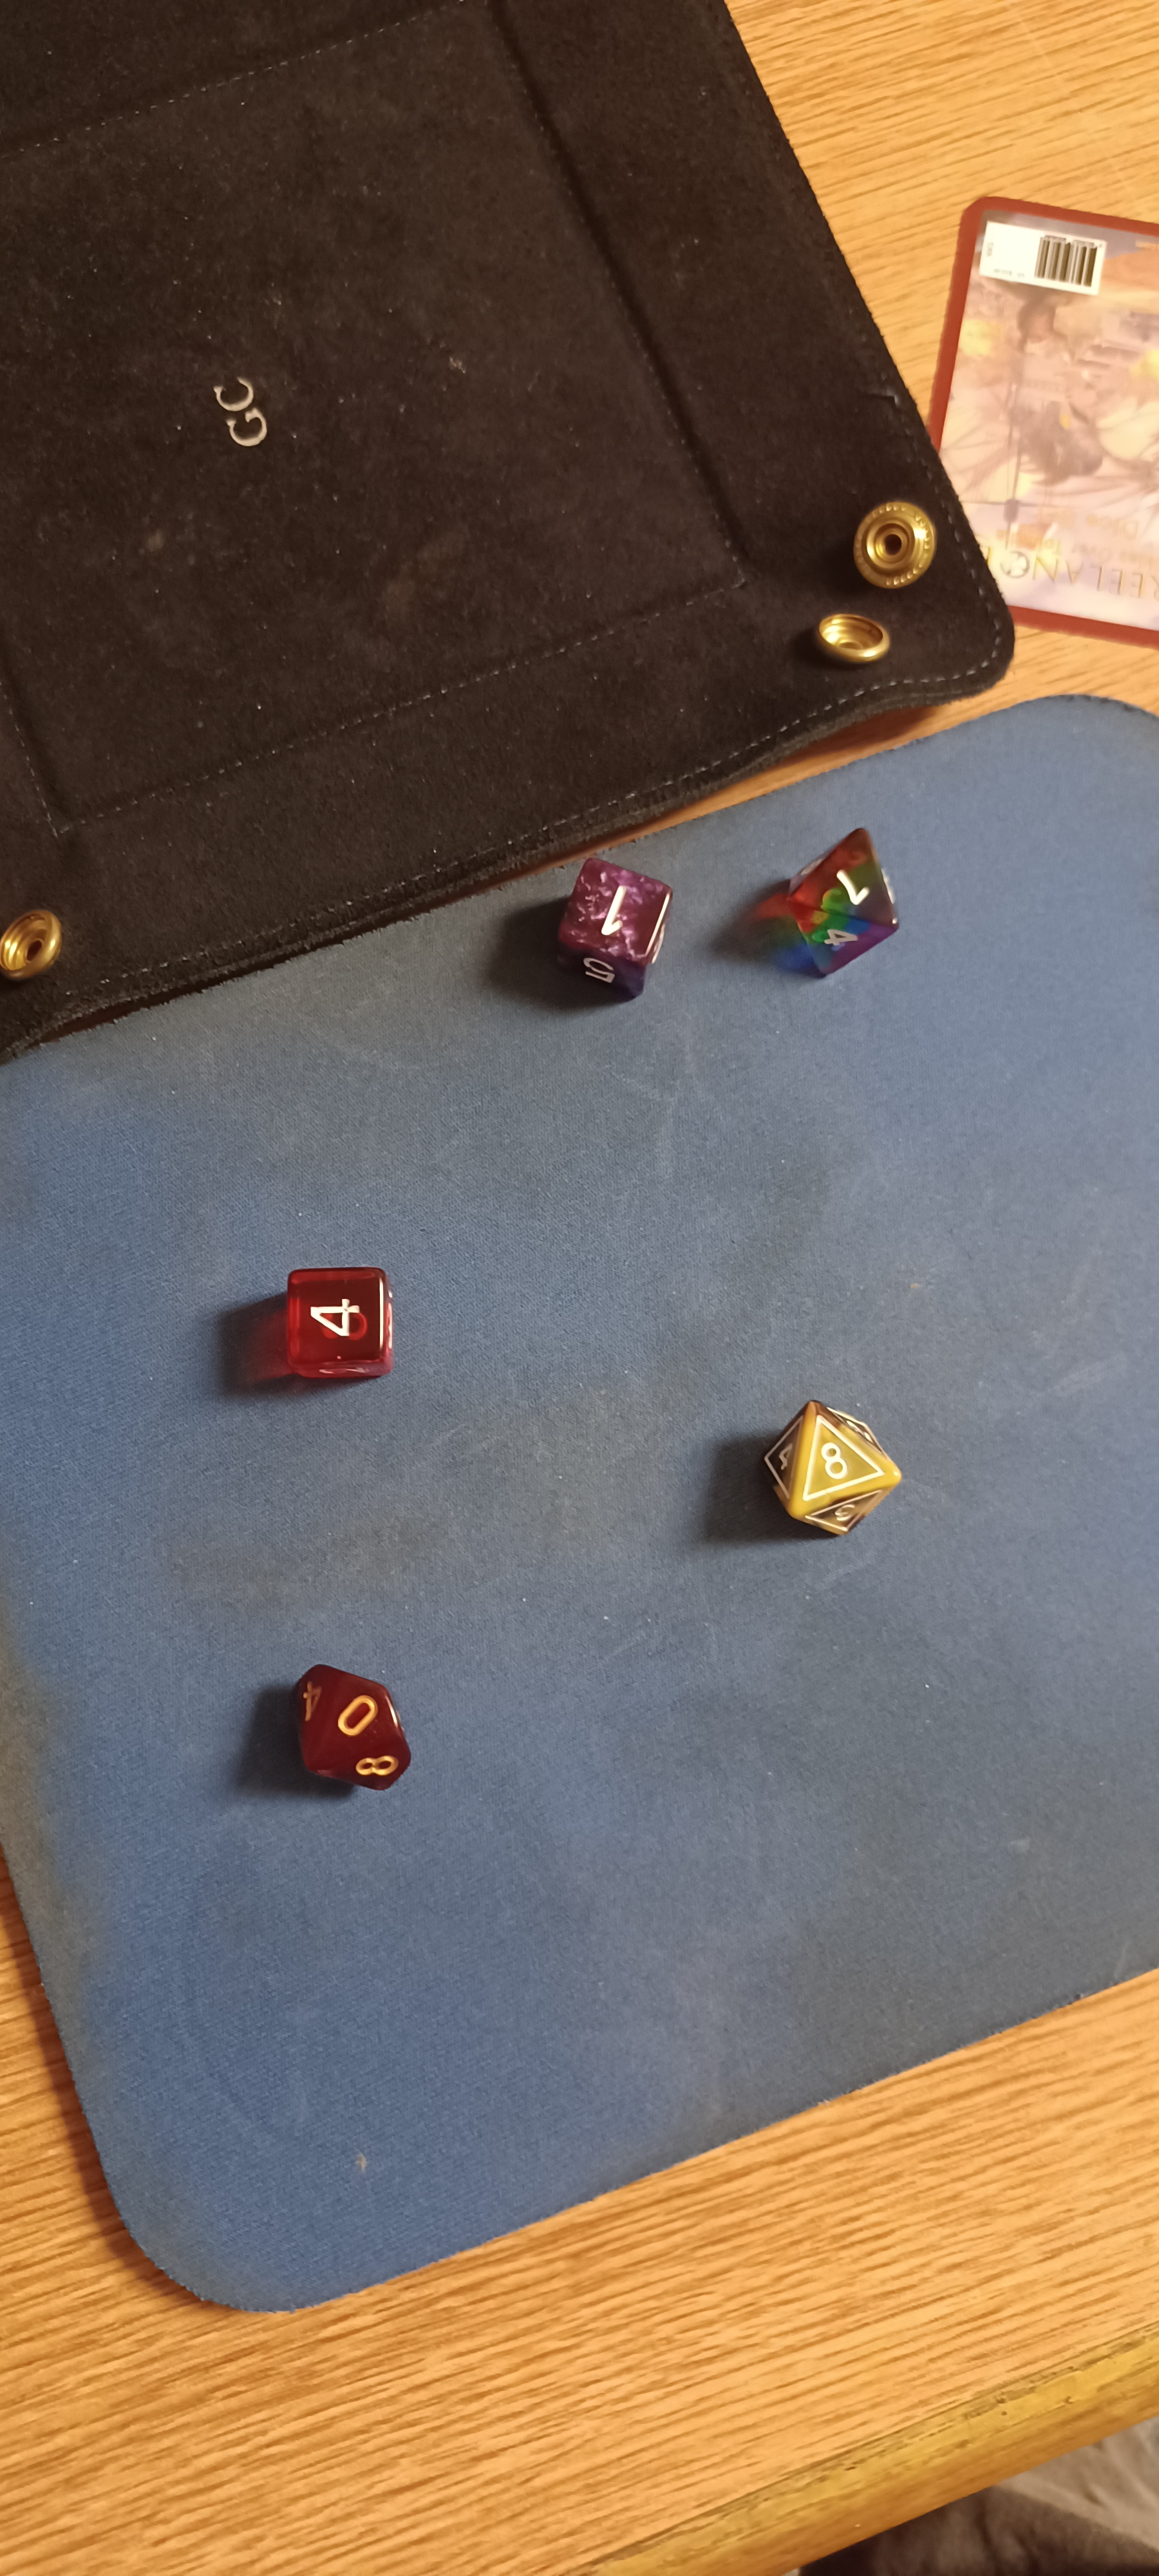eight: (712, 1375, 924, 1574)
four: (220, 1222, 448, 1423)
one: (547, 826, 689, 1010)
seven: (760, 795, 939, 994)
zero: (253, 1623, 440, 1817)
